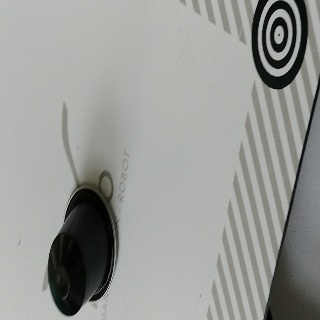capsule_10: (46, 182, 117, 316)
